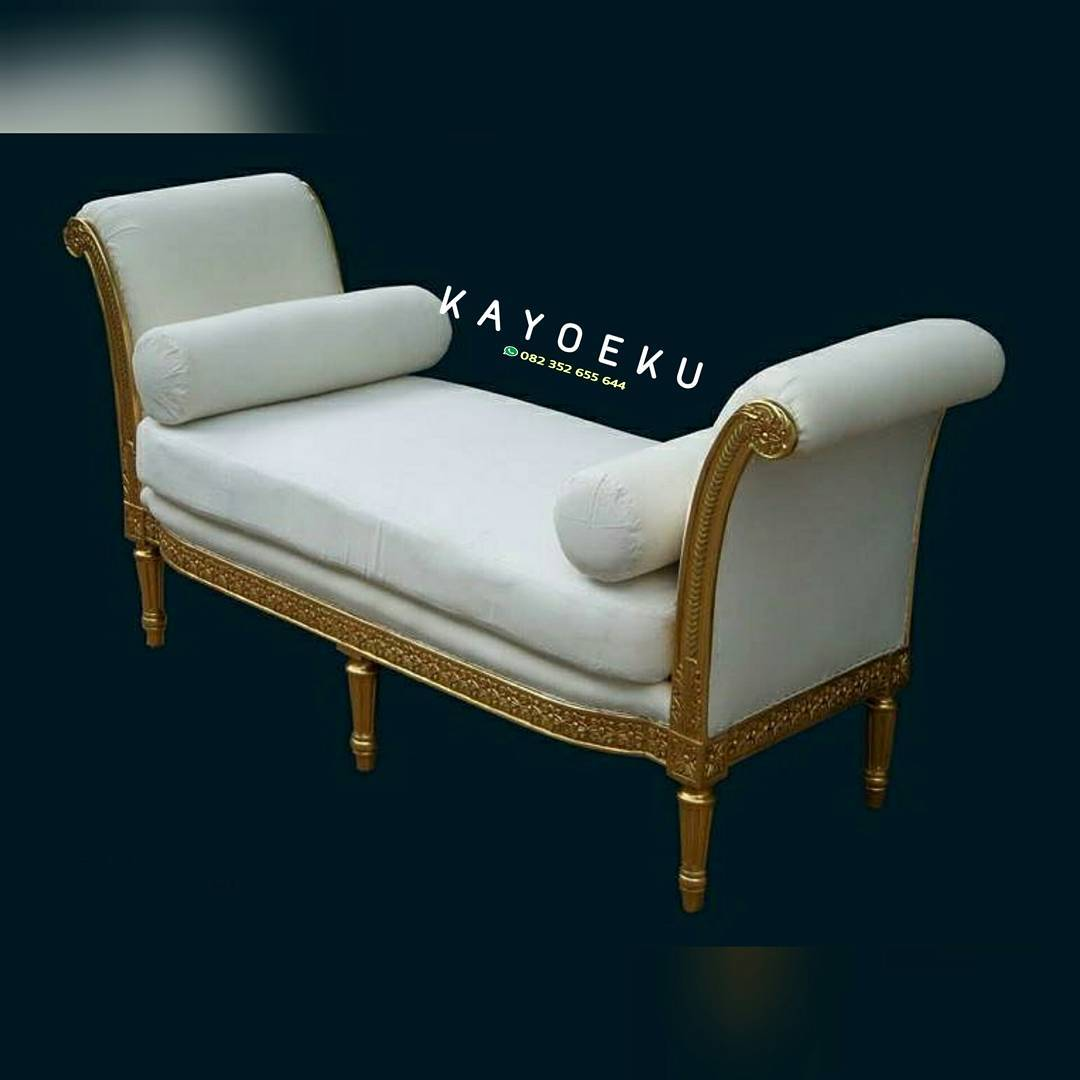Carving Chair: (69, 190, 974, 876)
